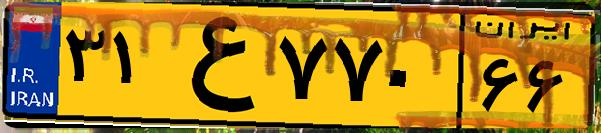0: (385, 28, 445, 110)
1: (110, 28, 158, 98)
3: (57, 26, 110, 100)
6: (475, 38, 525, 113), (525, 38, 570, 115)
7: (270, 28, 330, 110), (330, 28, 385, 110)
ع: (158, 12, 270, 120)
